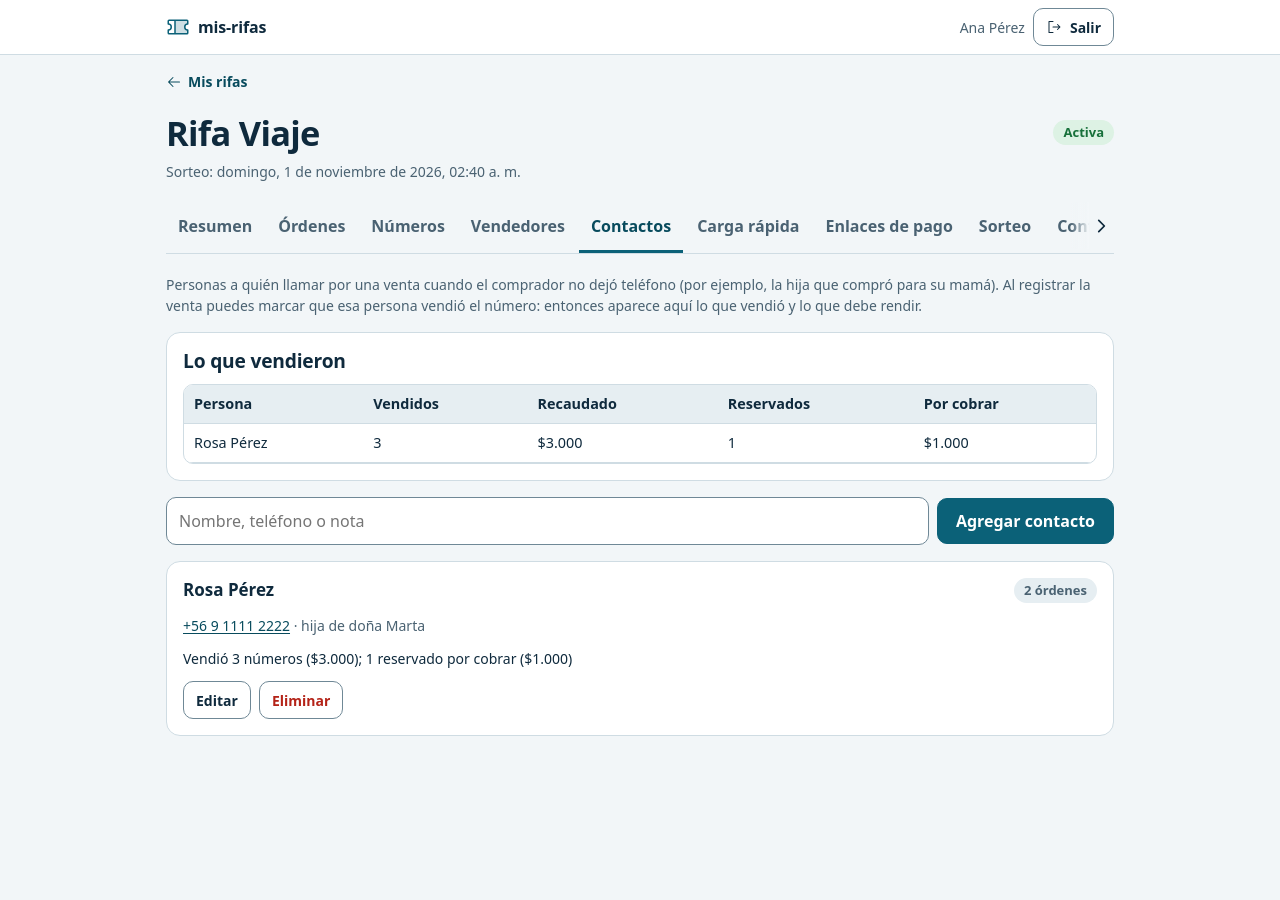
Test: pestaña Contactos › explica por qué no se puede eliminar un contacto con órdenes
Click the button with aria-label "Eliminar a Rosa Pérez" at [301, 700], box [259,681,343,719]
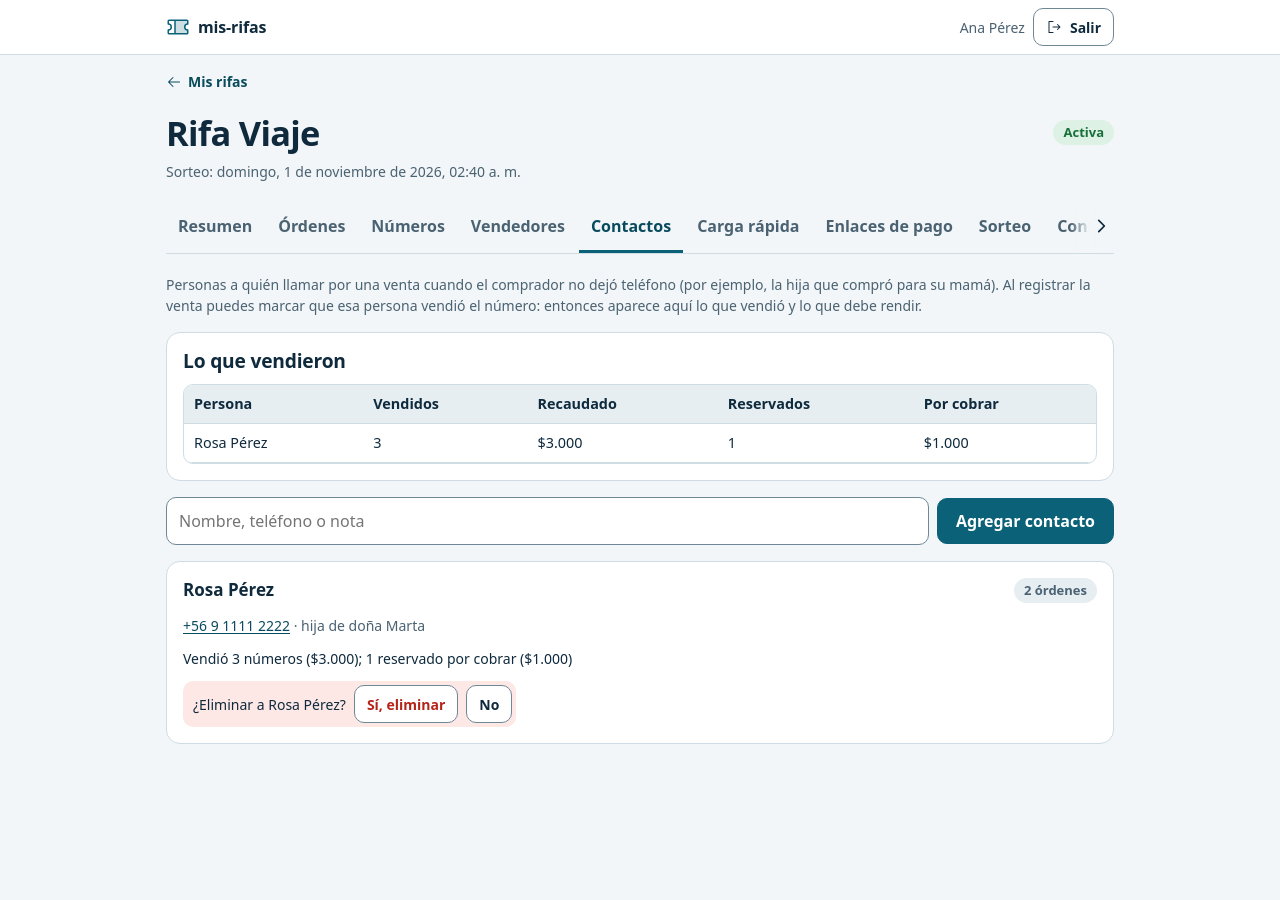
Click the button "Sí, eliminar" at [406, 704], box [354,685,458,723]
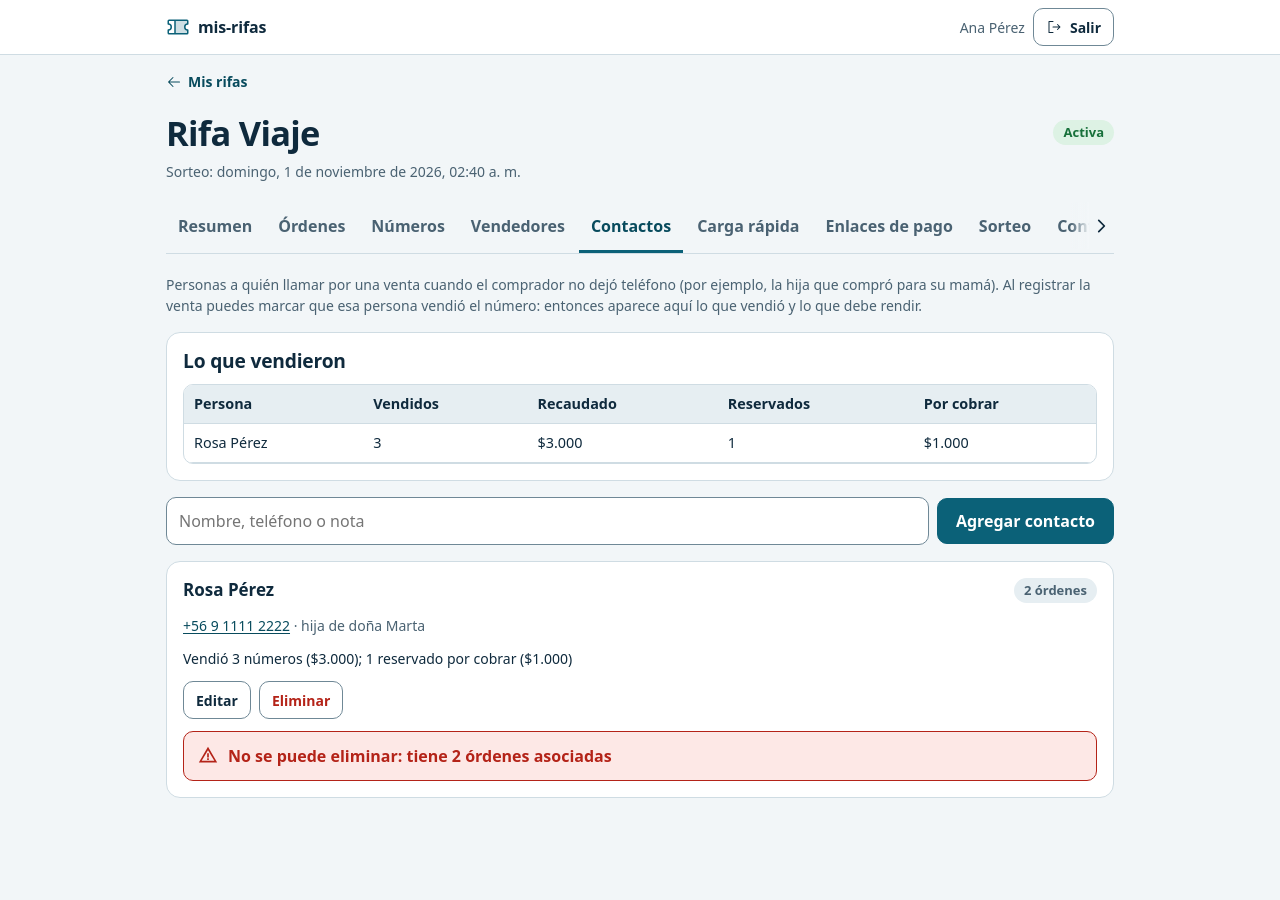
Result: the message shows "tiene 2 órdenes asociadas" at [228,745,612,767]
